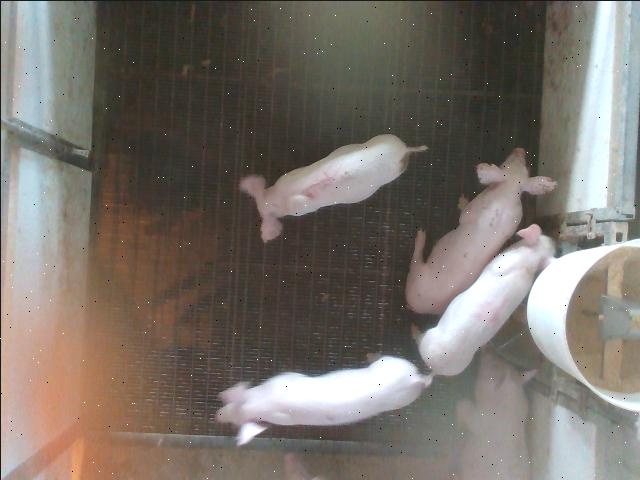pig-4: (418, 224, 554, 374)
pig-5: (239, 134, 426, 241)
